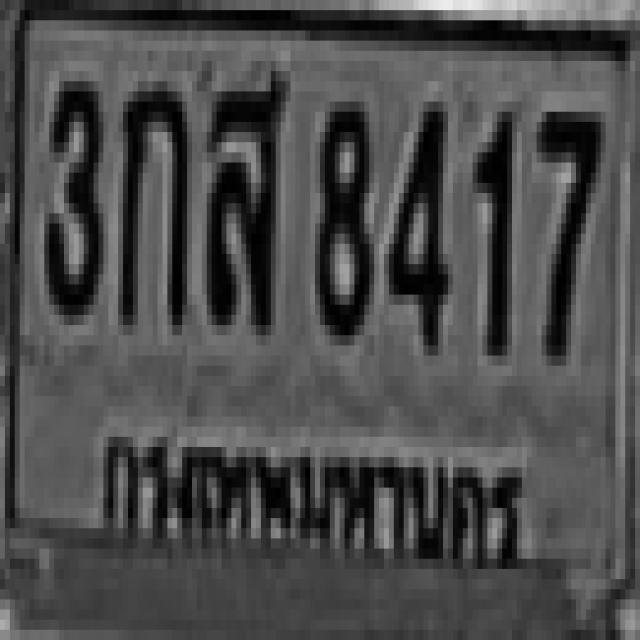1: (473, 102, 507, 346)
10GorGai: (116, 76, 184, 320)
3: (44, 71, 99, 305)
4: (384, 92, 443, 346)
49SorSuea: (202, 66, 280, 320)
7: (532, 102, 596, 356)
8: (313, 92, 367, 336)
Bangkok: (86, 402, 537, 602)
